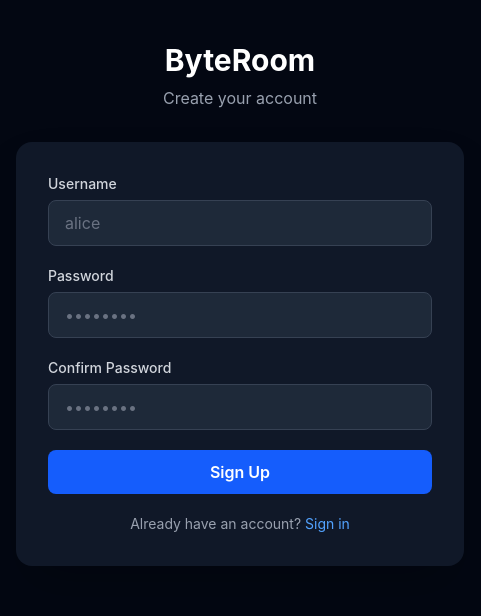
Test: RegisterPage › shows validation errors for empty form
Click the button "Sign Up" at (240, 472), box [48,450,432,494]
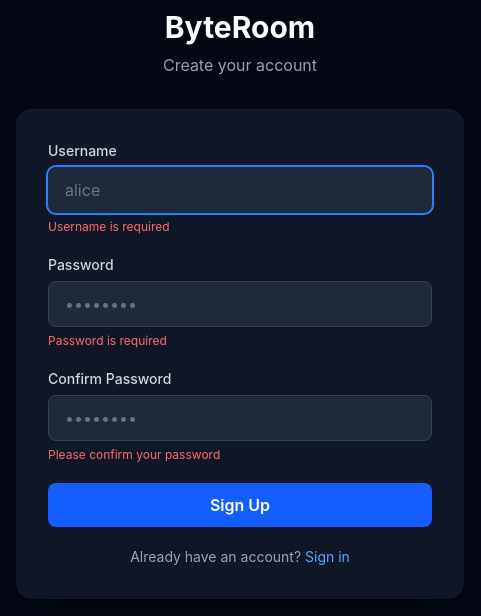
Check: the text "Username is required" is shown, box [48,219,170,234]
Check: the text "Password is required" is shown, box [48,333,167,348]
